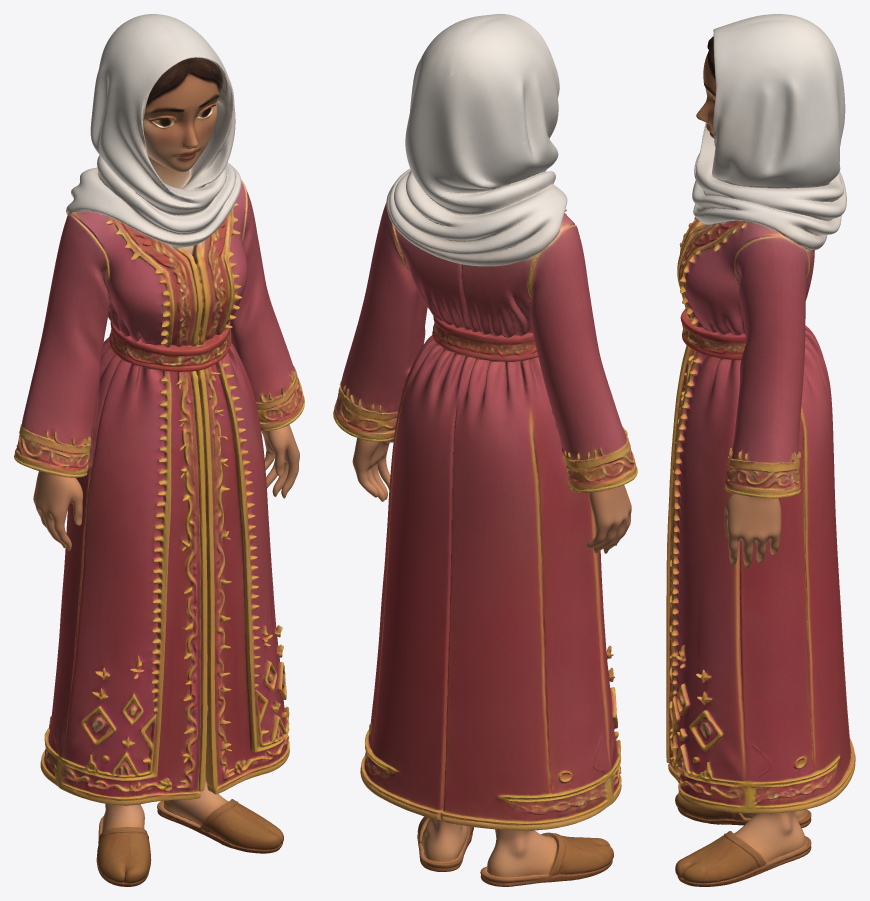
Rendered from woman2__base_basic_pbr.glb.
3 renders of one model, left to right at view 1: azimuth 30°, elevation 25°; view 2: azimuth 150°, elevation 25°; view 3: azimuth 270°, elevation 25°, orthographic. The views are drawn at different scales.
Parts seen in each view (by area): view 1: model; view 2: model; view 3: model.
Boxes of the visible parts, x1,y1,x2,y2 form: model: (14, 14, 304, 886); model: (333, 14, 637, 886); model: (666, 14, 855, 886).
Bounding box in the file's own units: 0.692 × 1.9 × 0.3952.
Materials: 1 (1 with a texture image).
